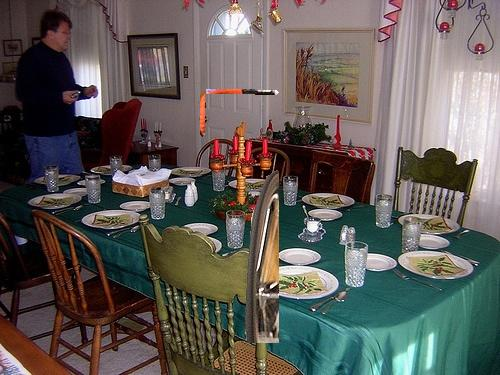tampered: (201, 90, 279, 343)
